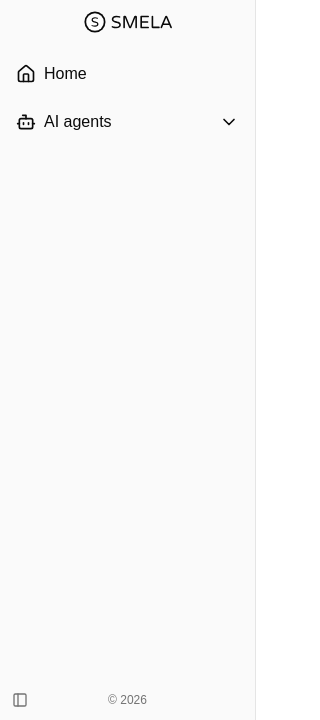
Test case: Sidebar › keeps a group open after collapsing and expanding the sidebar
Click the button "AI agents" at (128, 122), box x1=8 y1=100 x2=247 y2=144
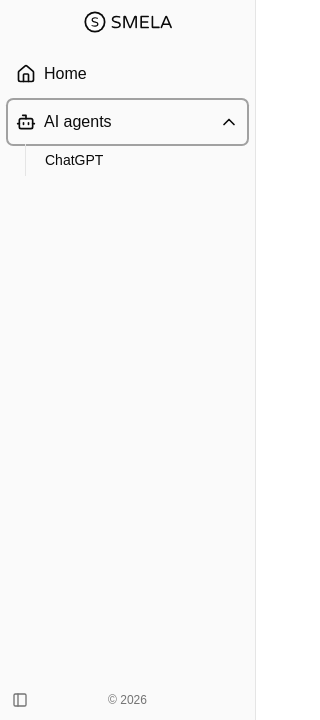
Now the text "ChatGPT" is shown, box x1=45 y1=150 x2=103 y2=170
Click the button named "Collapse sidebar" at (20, 700), box x1=8 y1=688 x2=32 y2=712
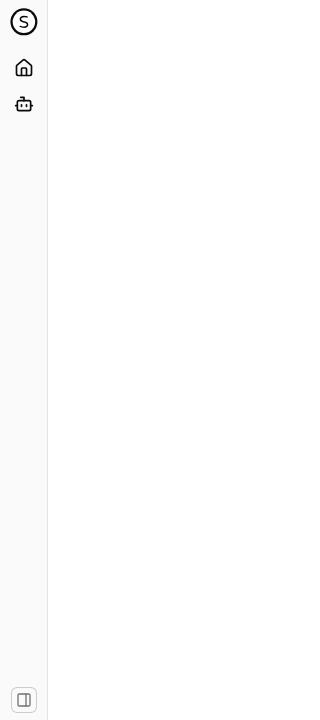
Click the button named "Expand sidebar" at (24, 700), box x1=12 y1=688 x2=36 y2=712
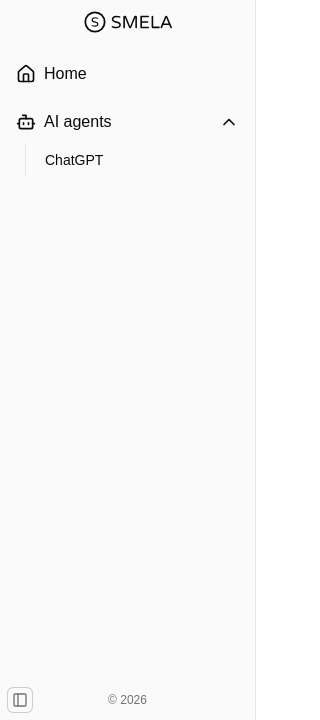
Now the text "ChatGPT" is shown, box x1=45 y1=150 x2=103 y2=170
